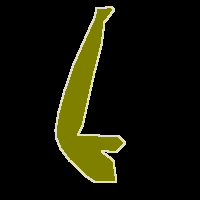tie: (55, 6, 125, 182)
